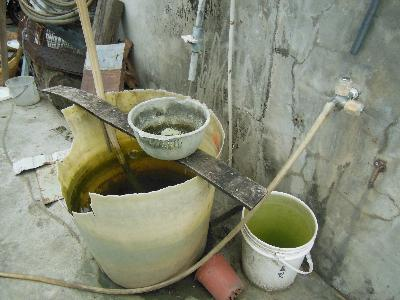bowl: (125, 95, 213, 161)
bucket: (52, 86, 224, 288), (239, 191, 317, 292), (5, 75, 42, 106)
